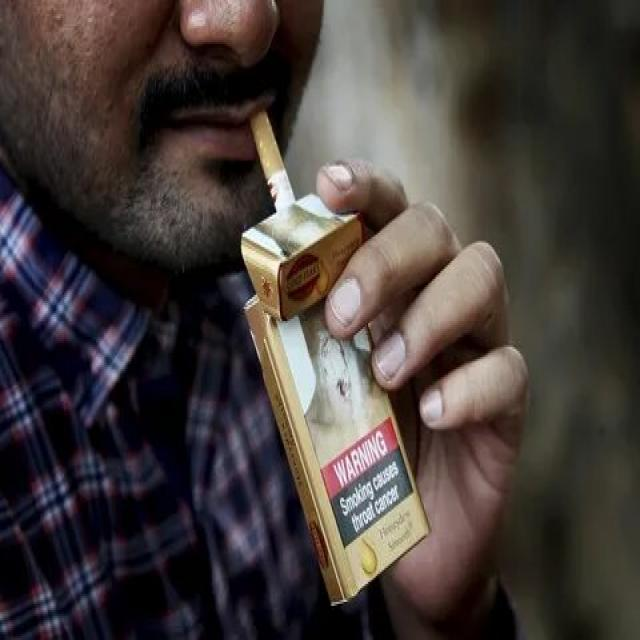smoke: (243, 102, 301, 223)
